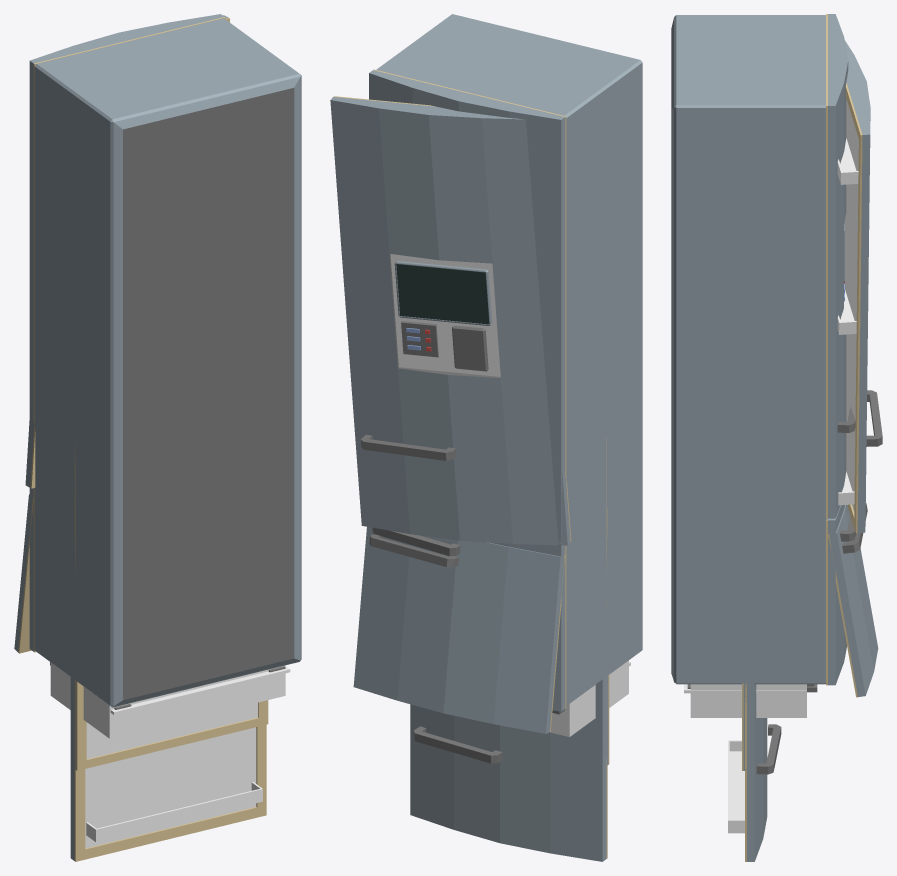
The model's file is Fridge1.fbx.
3 renders of one model, left to right at view 1: azimuth 30°, elevation 25°; view 2: azimuth 150°, elevation 25°; view 3: azimuth 270°, elevation 25°, orthographic. The views are drawn at different scales.
Visible parts, largest first — view 1: fridge1.3, fridge_detail4, fridge_detail2, fridge_detail3, fridge1.1, fridge1.2, fridge_detail1; view 2: fridge1.2, fridge1.3, fridge_detail4, fridge1.1, fridge_detail2; view 3: fridge1.3, fridge1.2, fridge1.1, fridge_detail4, fridge_detail2, fridge_detail1.
Part boxes in pixels (box(x1,y1,x2,y2)): fridge1.3: box(34, 18, 301, 709); fridge_detail4: box(70, 443, 266, 861); fridge_detail2: box(50, 662, 285, 738); fridge_detail3: box(72, 678, 268, 770); fridge1.1: box(29, 14, 225, 652); fridge1.2: box(14, 15, 229, 653); fridge_detail1: box(110, 666, 290, 714); fridge1.2: box(330, 96, 571, 733); fridge1.3: box(376, 14, 642, 714); fridge_detail4: box(410, 437, 607, 861); fridge1.1: box(369, 69, 566, 711); fridge_detail2: box(550, 660, 628, 736); fridge1.3: box(671, 15, 827, 692); fridge1.2: box(827, 40, 882, 697); fridge1.1: box(826, 14, 855, 685); fridge_detail4: box(728, 683, 781, 861); fridge_detail2: box(690, 684, 806, 717); fridge_detail1: box(684, 684, 806, 693).
Size of the model in its own units: 138 by 464 by 118.
